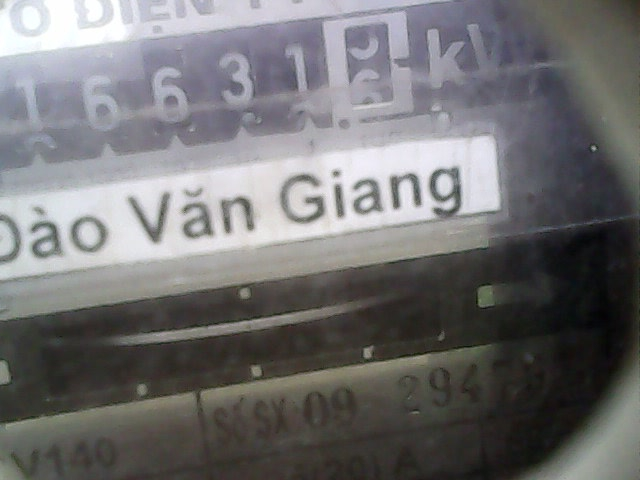phy_plate: (1, 4, 429, 150)
